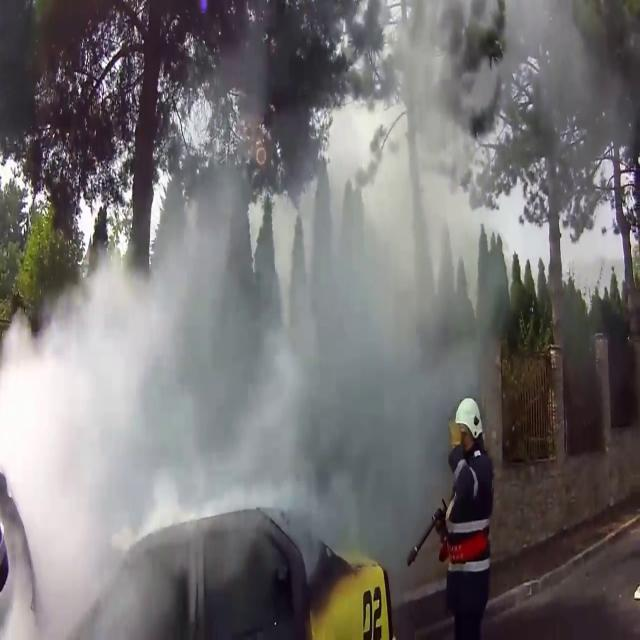Smoke: (0, 6, 502, 630)
